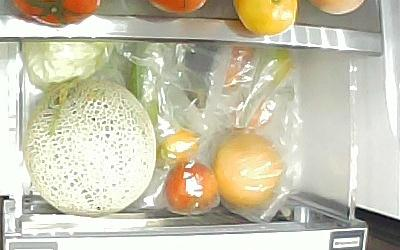cabbage: (17, 42, 109, 87)
eggplant_vinyl: (181, 47, 219, 110)
melon: (23, 79, 156, 217)
pear_vinyl: (214, 131, 285, 208)
prune_vinyl: (166, 160, 219, 213)
tangerine_vinyl: (156, 130, 202, 163)
zucchini_vinyl: (125, 44, 158, 131)
